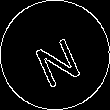N_NW: (27, 24, 83, 86)
